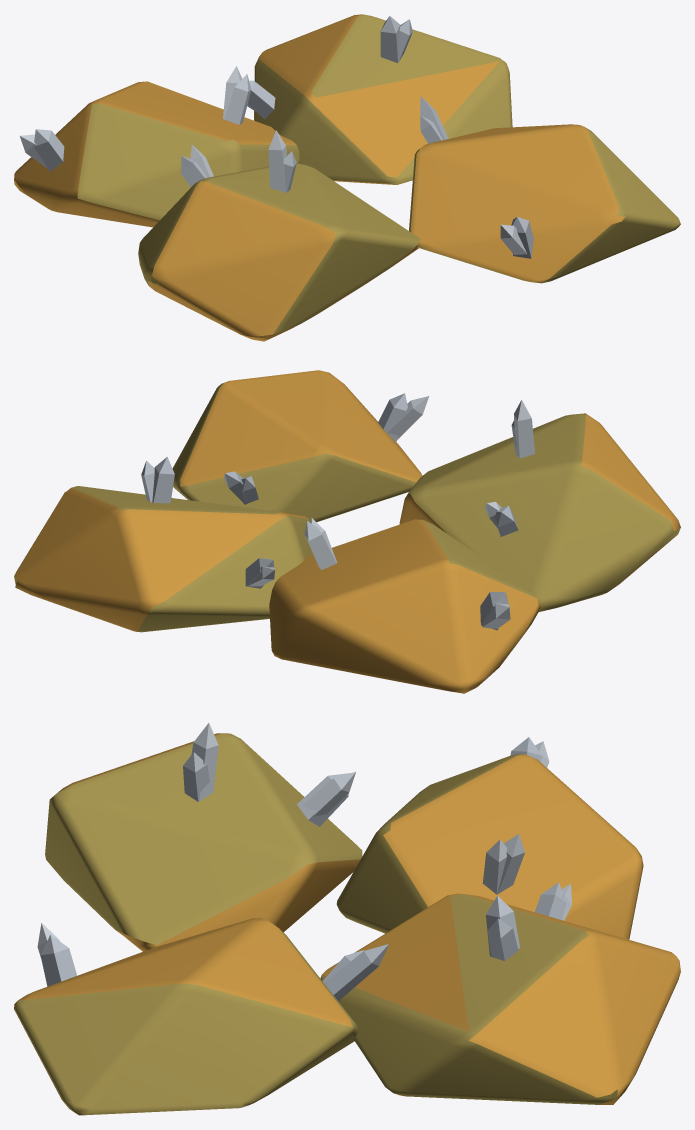
Rendered from minerai_zinc_1.glb.
The picture shows the model from 3 angles, top to bottom: view 1: azimuth 30°, elevation 25°; view 2: azimuth 150°, elevation 25°; view 3: azimuth 270°, elevation 25°; orthographic projection. The views are drawn at different scales.
Visible parts, largest first — view 1: minerai_zinc_miel.004, minerai_zinc_roche.004, minerai_gris_clair.008, minerai_zinc_metal.004; view 2: minerai_zinc_miel.004, minerai_zinc_roche.004, minerai_gris_clair.008, minerai_zinc_metal.004; view 3: minerai_zinc_roche.004, minerai_zinc_miel.004, minerai_gris_clair.008, minerai_zinc_metal.004.
Part boxes in pixels (<box>): minerai_zinc_miel.004: <box>14,14,625,341</box>; minerai_zinc_roche.004: <box>77,14,680,334</box>; minerai_gris_clair.008: <box>34,16,533,258</box>; minerai_zinc_metal.004: <box>20,66,526,254</box>; minerai_zinc_miel.004: <box>14,370,680,693</box>; minerai_zinc_roche.004: <box>14,382,680,632</box>; minerai_gris_clair.008: <box>141,393,518,630</box>; minerai_zinc_metal.004: <box>248,396,535,628</box>; minerai_zinc_roche.004: <box>14,733,617,1115</box>; minerai_zinc_miel.004: <box>14,733,680,1115</box>; minerai_gris_clair.008: <box>40,737,566,1001</box>; minerai_zinc_metal.004: <box>37,723,571,957</box>.
Bounding box in the file's own units: 0.5293 × 0.1547 × 0.5002.
